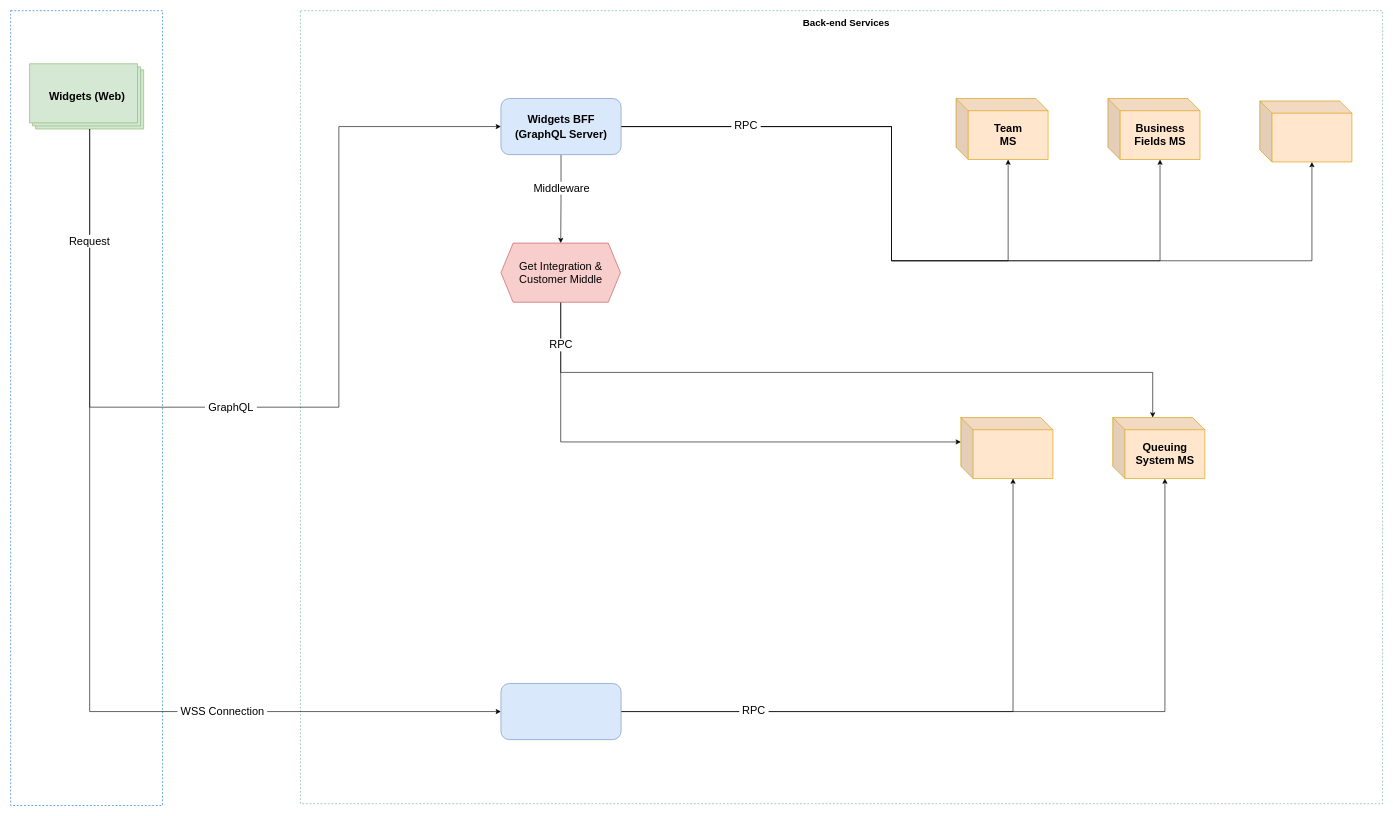
The diagram is 1393 pixels wide and 816 high, and some of its shapes have lost their labels. Each missing label, with the box of its shape:
Assistance Centers MS: (1259, 100, 1352, 162)
Bifröst (Realtime Server): (500, 683, 621, 740)
Clients: (10, 10, 163, 806)
Integrations MS: (960, 417, 1053, 479)
